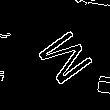M_SW: (21, 21, 89, 89)
